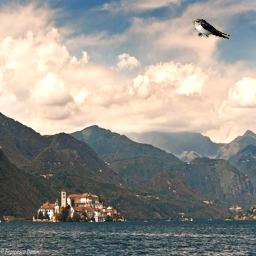Swallow: (192, 18, 231, 39)
